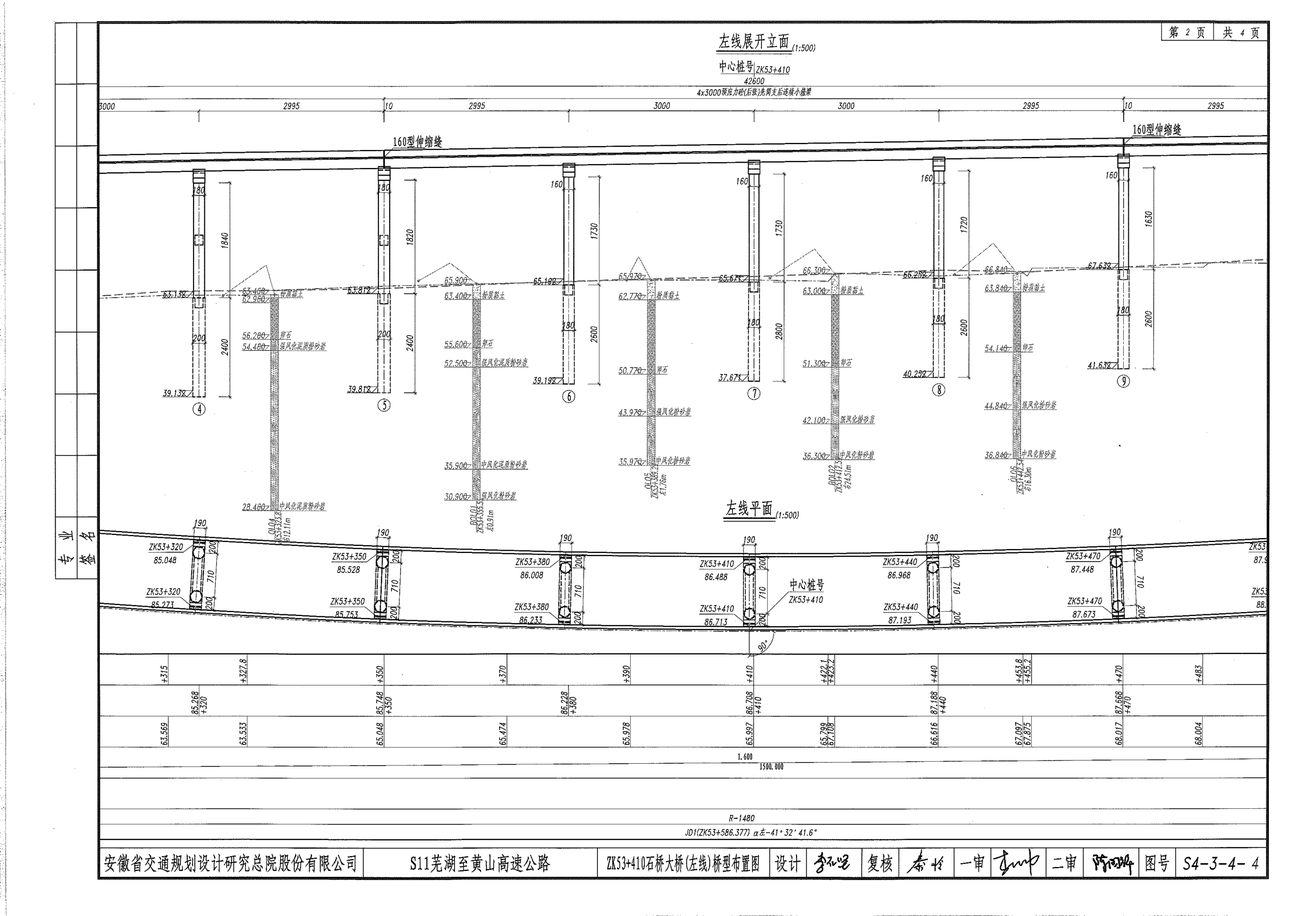A: (80, 32, 1273, 427)
